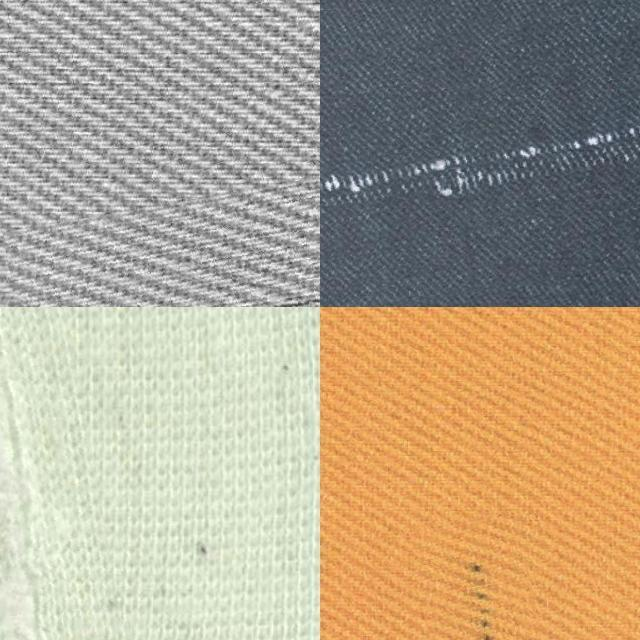stains: (320, 3, 640, 307), (8, 153, 320, 307), (0, 307, 97, 640), (417, 513, 545, 640)
